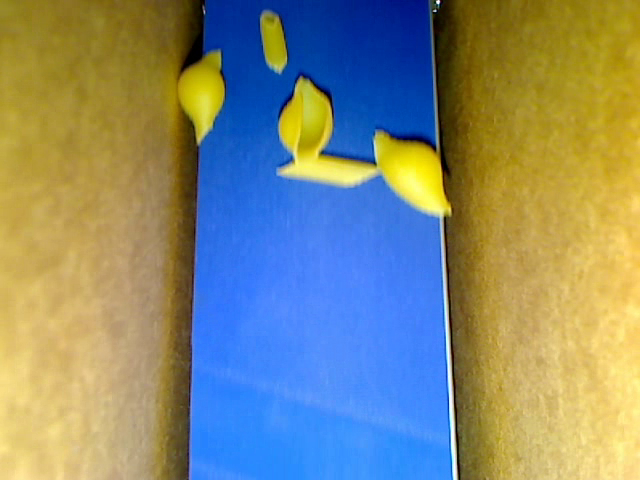penne: (277, 154, 381, 187), (260, 9, 288, 75)
shell: (372, 128, 452, 217), (277, 75, 334, 163), (177, 49, 226, 147)
